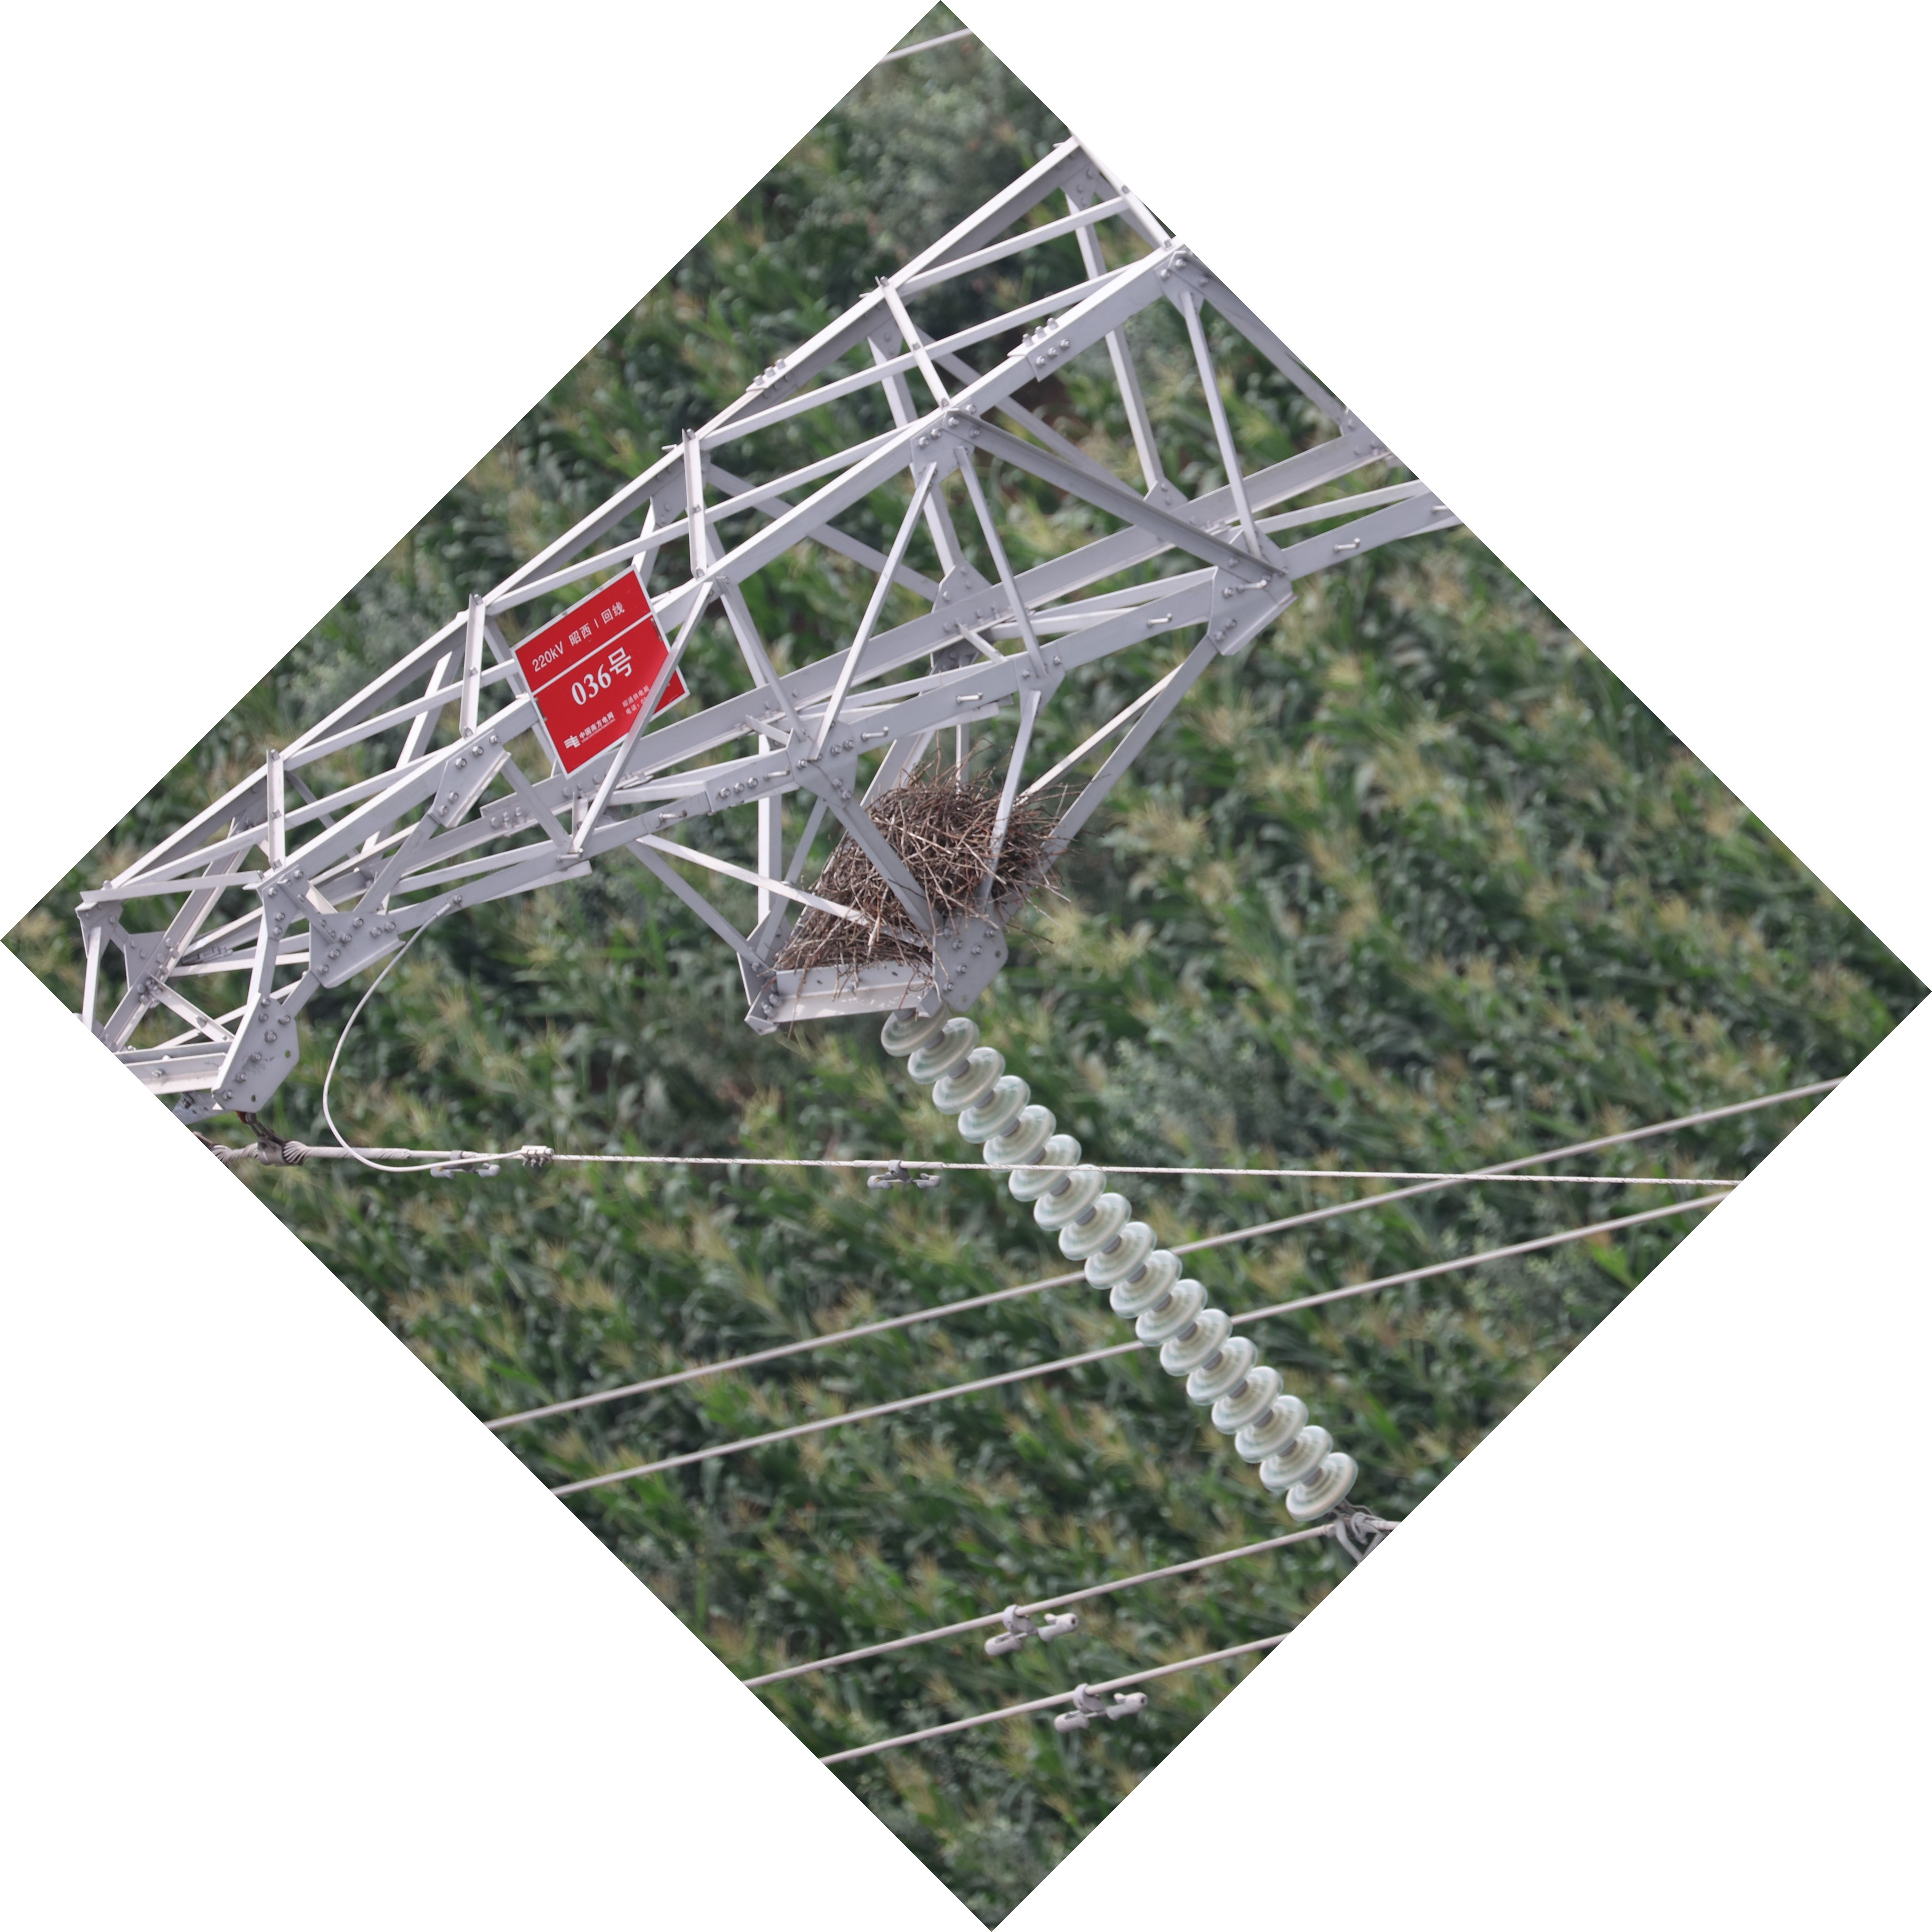niaowo: (732, 750, 1069, 1016)
